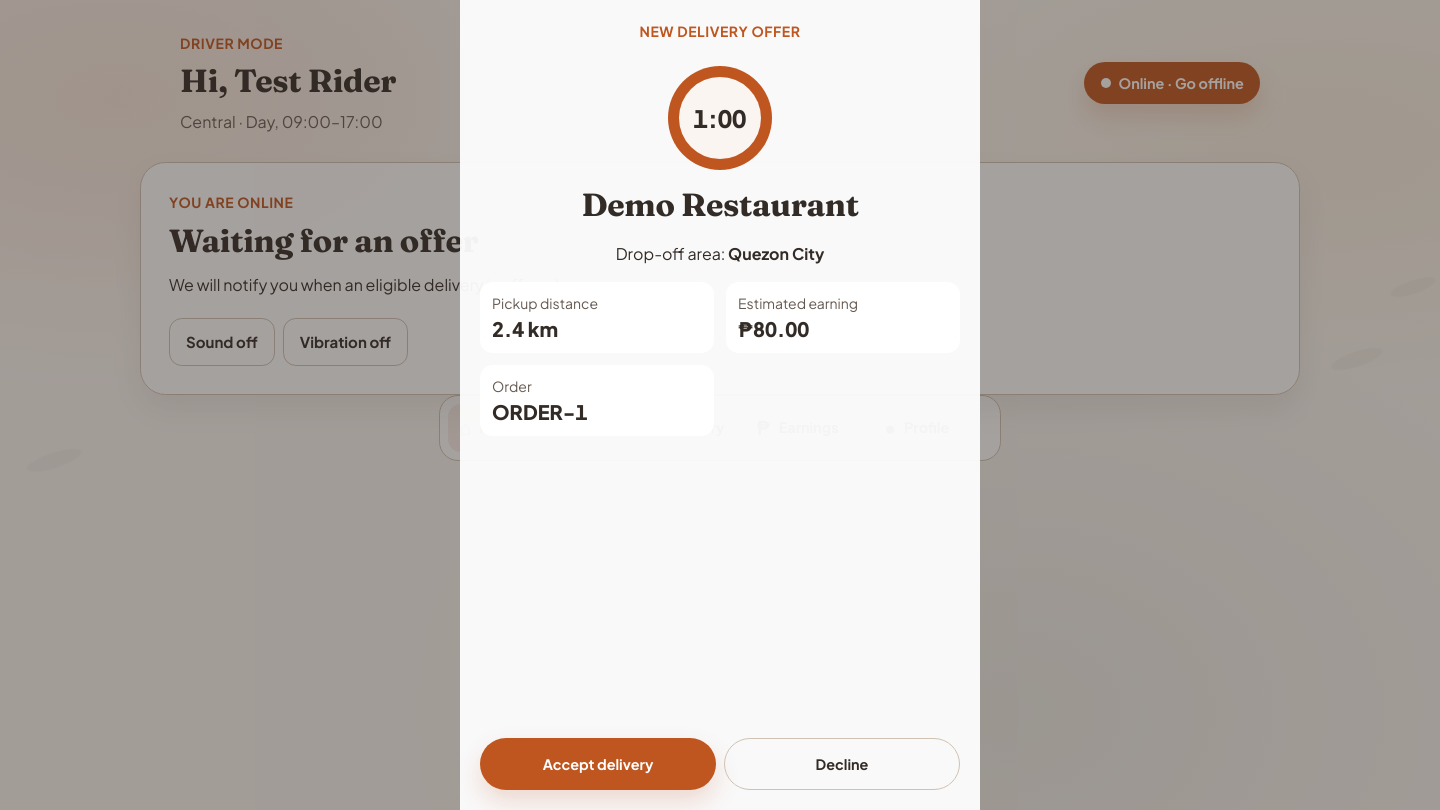
RiderPage dispatch experience › shares location only for an active delivery and stops the watch when the page unmounts
The width and height of the screenshot is (1440, 810).
Click the button "Accept delivery" at (598, 764), box x1=480 y1=738 x2=716 y2=790
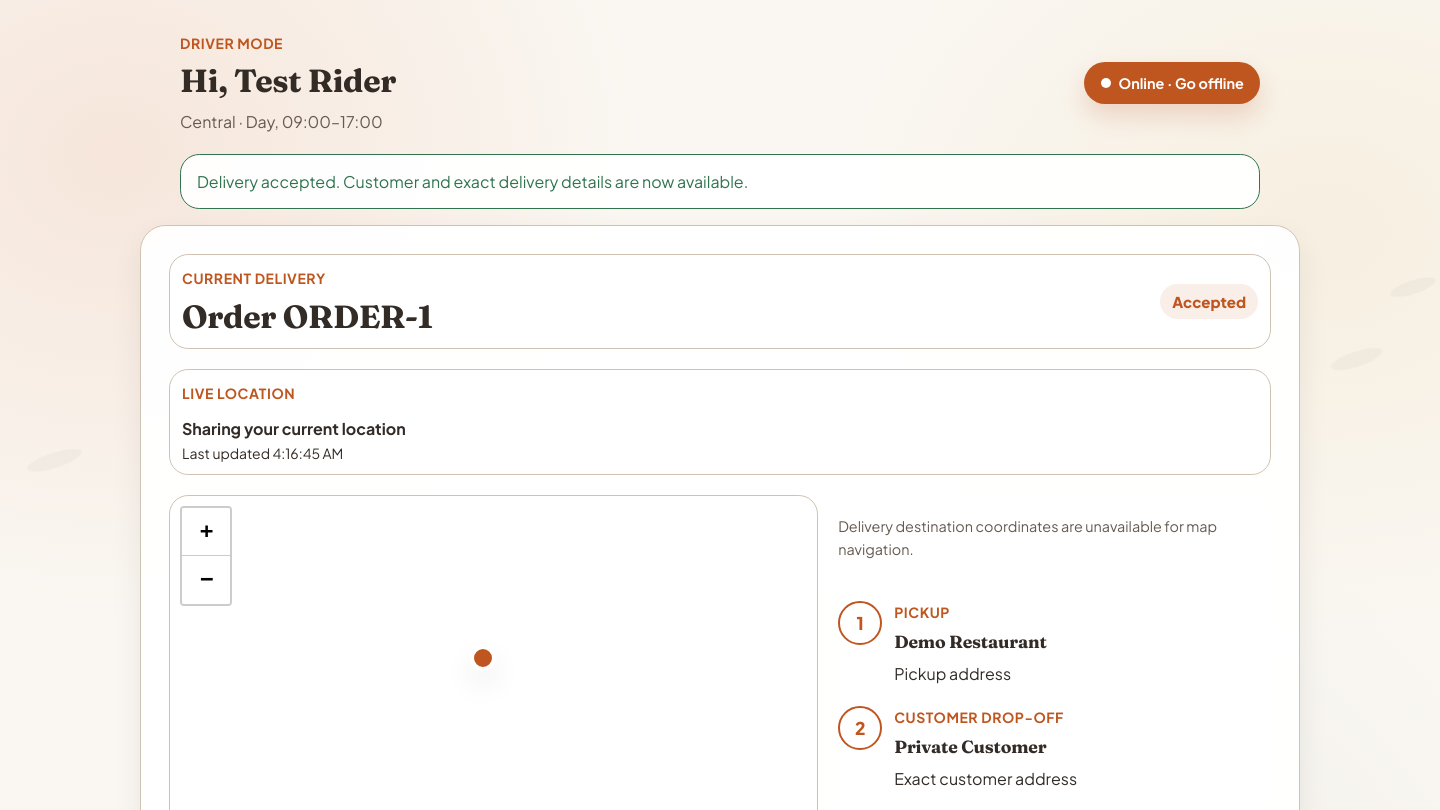
Expected: the text "Exact customer address" is shown, x1=894 y1=768 x2=1077 y2=789
